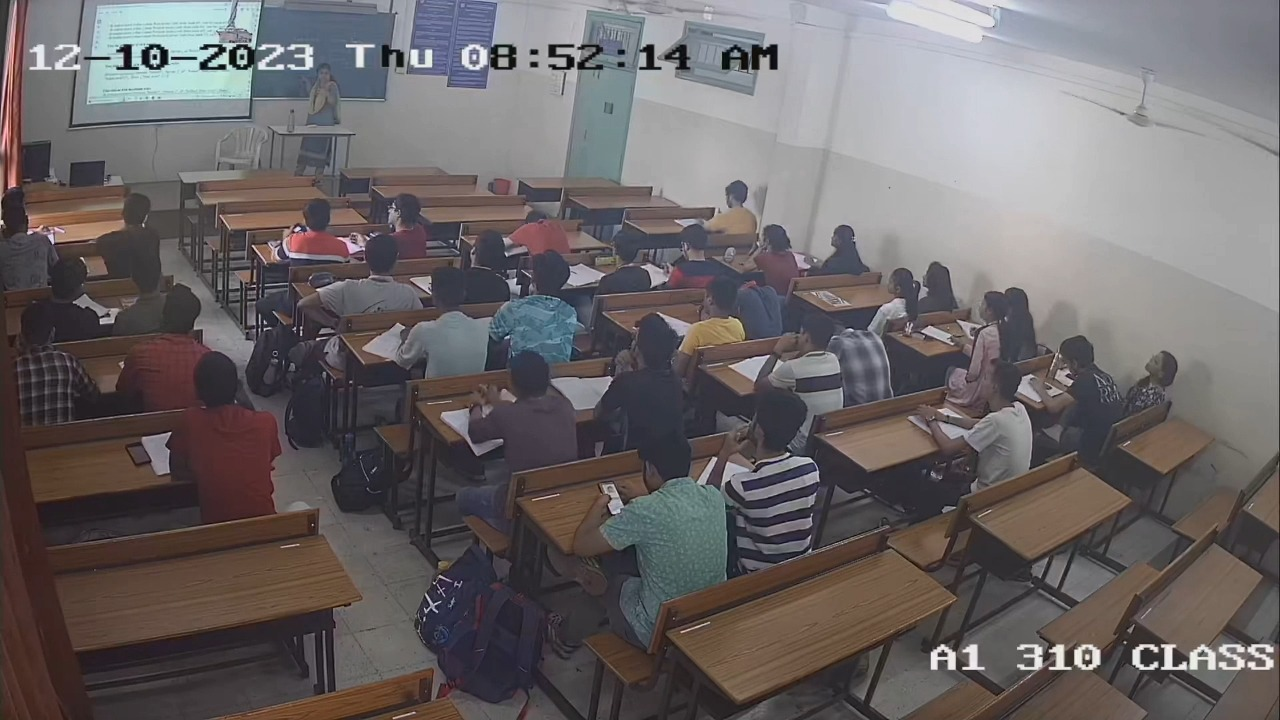cell-phones: (596, 478, 626, 514), (122, 440, 154, 468), (593, 253, 616, 266)
person: (582, 435, 730, 591), (167, 351, 280, 520), (597, 232, 653, 292)
